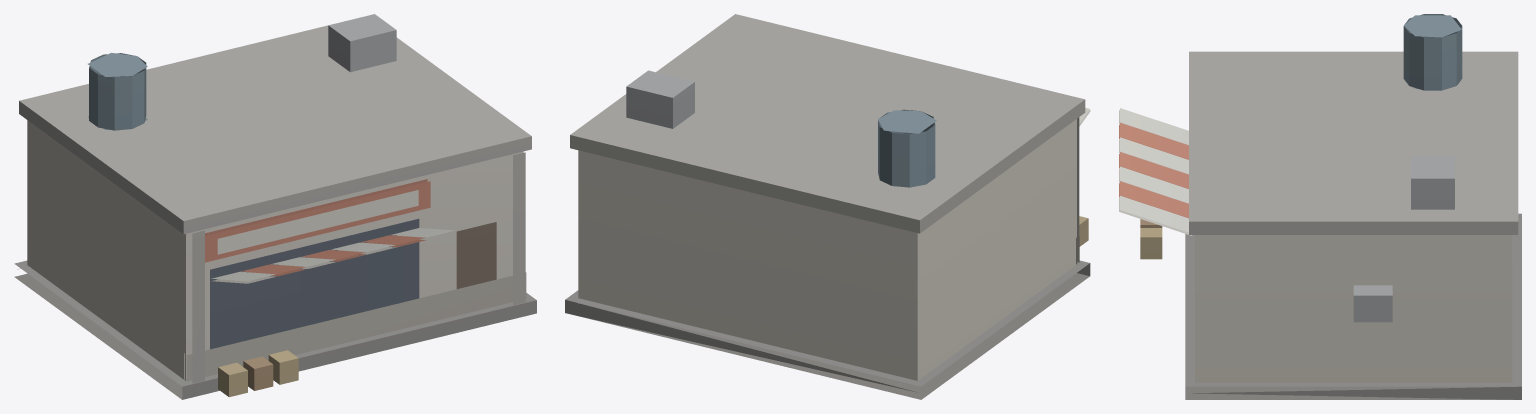
Rendered from sv_shop_a.lod.glb.
3 renders of one model, left to right at view 1: azimuth 30°, elevation 25°; view 2: azimuth 150°, elevation 25°; view 3: azimuth 270°, elevation 25°, orthographic.
Visible parts, largest first — view 1: sv_shop_a; view 2: sv_shop_a; view 3: sv_shop_a.
Part boxes in pixels (bbox=[...]): sv_shop_a: bbox=[14, 14, 536, 399]; sv_shop_a: bbox=[565, 14, 1090, 399]; sv_shop_a: bbox=[1119, 14, 1521, 399].
Size of the model in its own units: 8.7 by 5.2 by 8.26.
